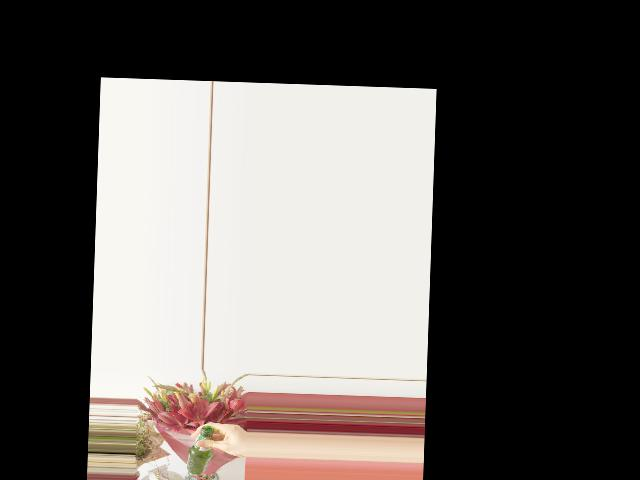beer: (186, 425, 214, 474)
